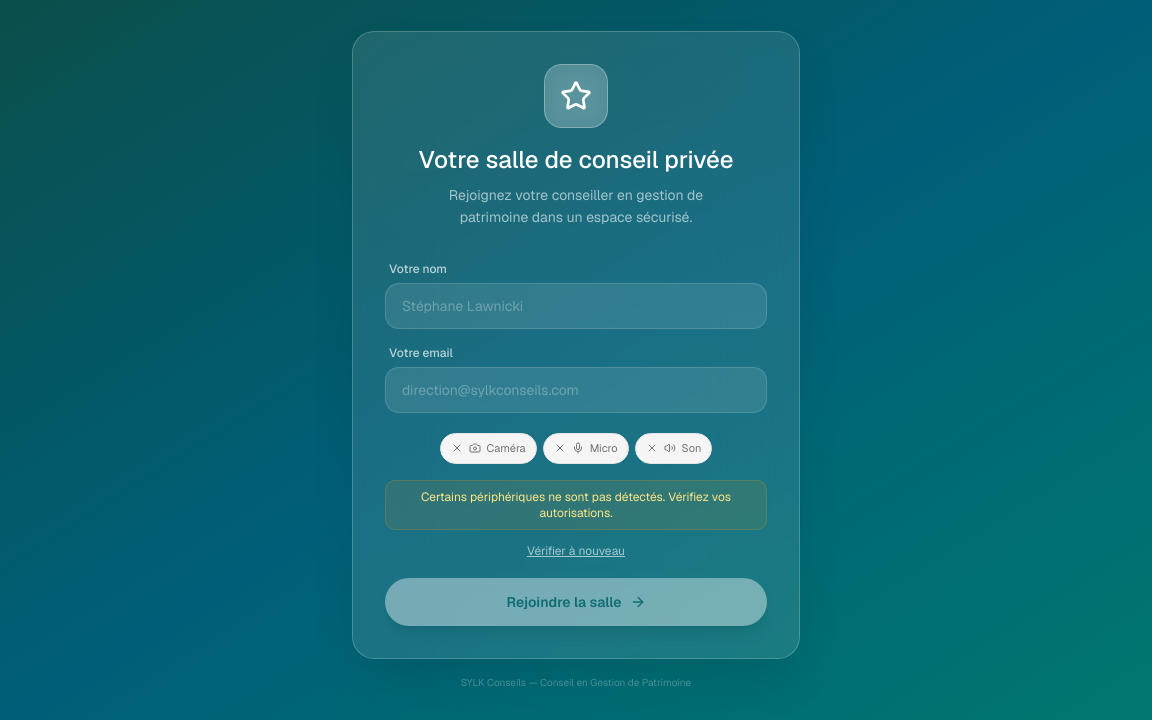
Test case: WelcomeScreen — Safari Media Fix › shows error message when getUserMedia fails with NotAllowedError
Type "Test User" into the field with placeholder "Stéphane Lawnicki" at (576, 306), box 385,283 -> 767,329
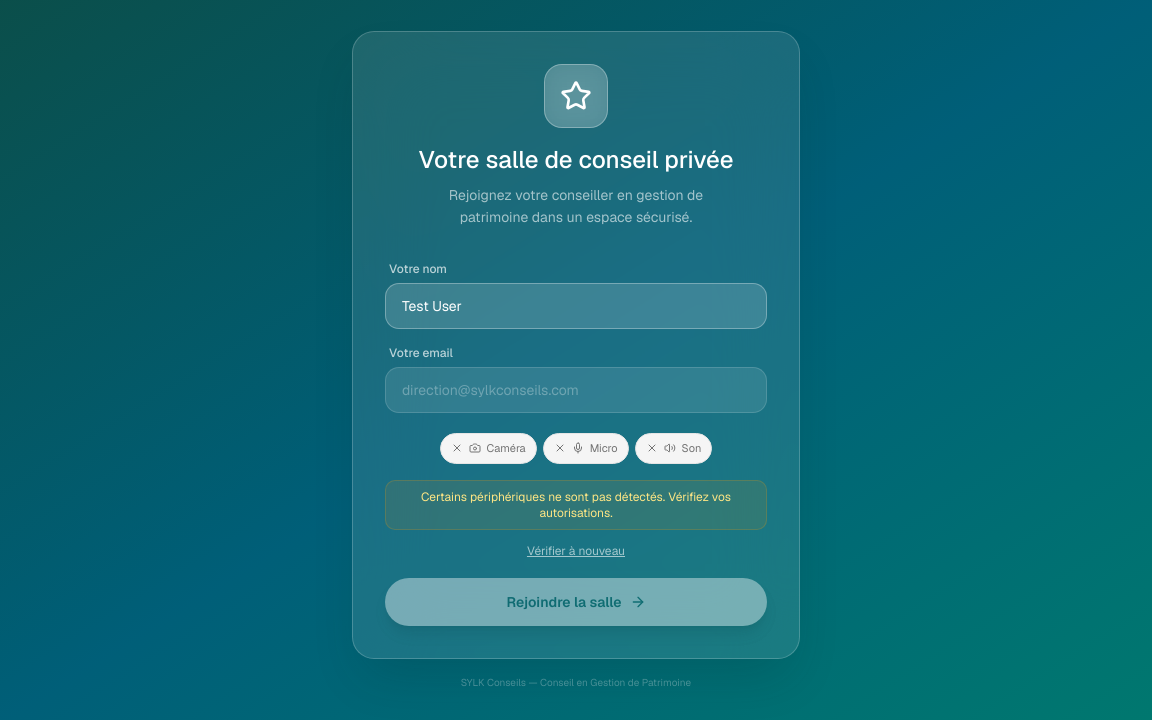
Type "test@test.com" into the field with placeholder "direction@sylkconseils.com" at (576, 390), box 385,367 -> 767,413
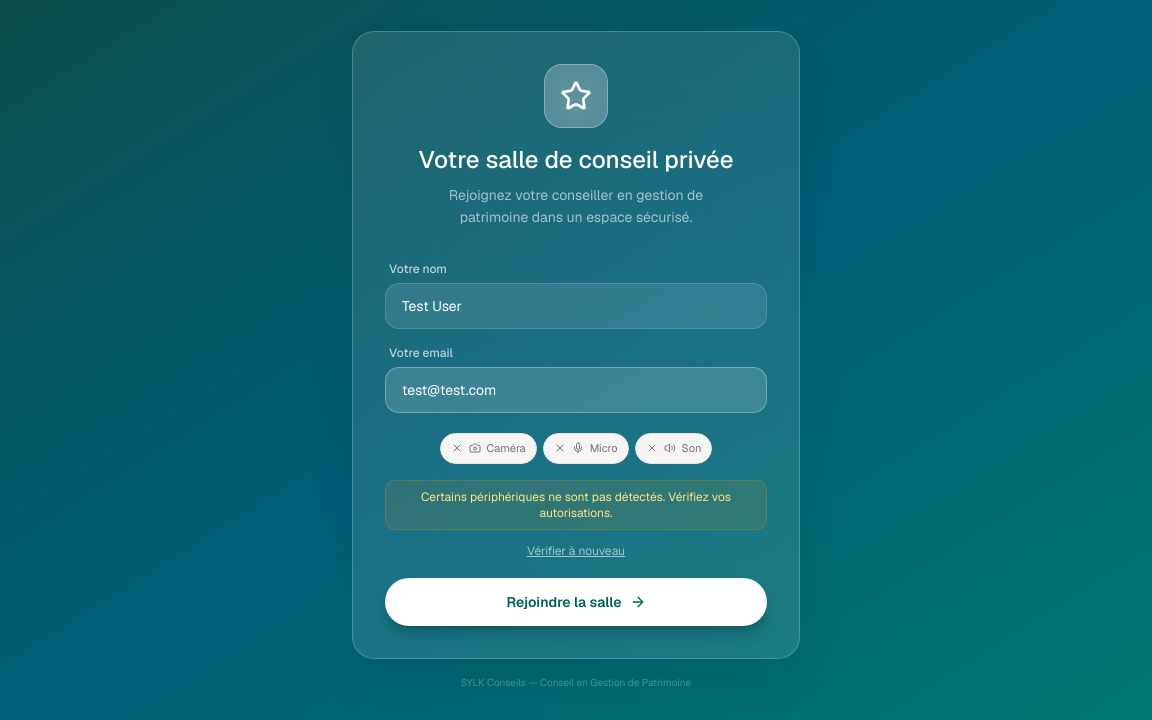
# Click join — triggers checkDevices (async) + advances to code step
Click the button "Rejoindre la salle" at (576, 602), box 385,578 -> 767,626
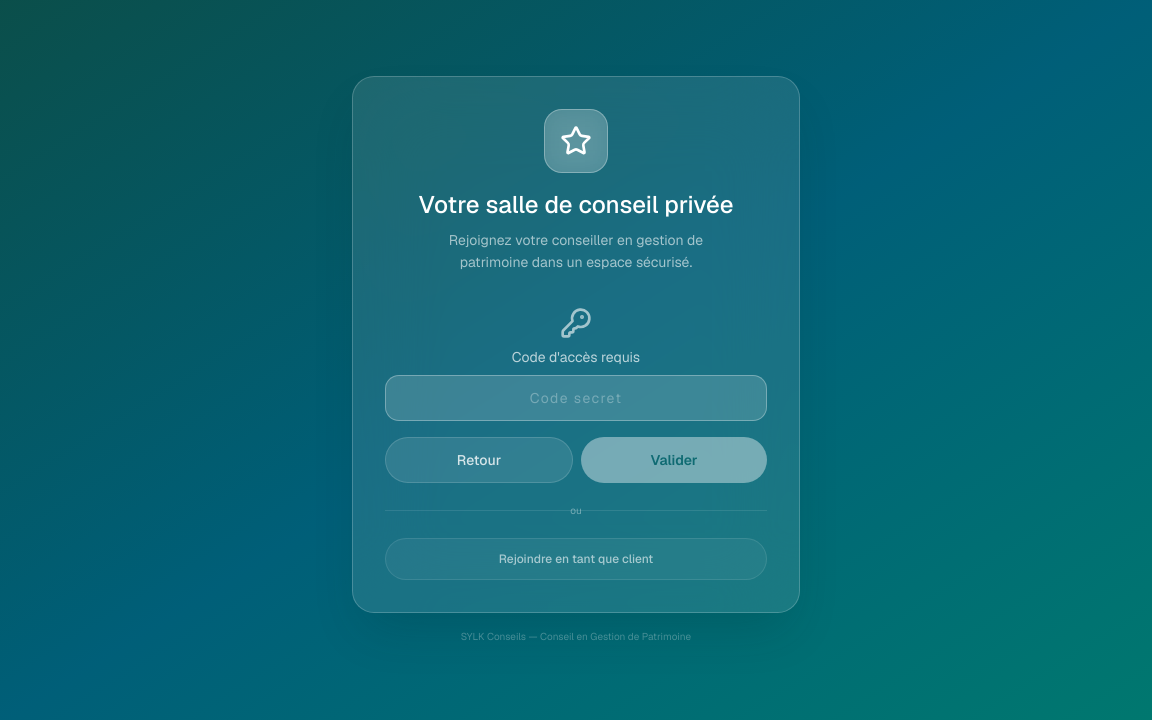
Check: the password field with placeholder "Code secret" is shown, box 385,375 -> 767,421
# Go back to form step
Click the button "Retour" at (479, 460), box 385,437 -> 573,483
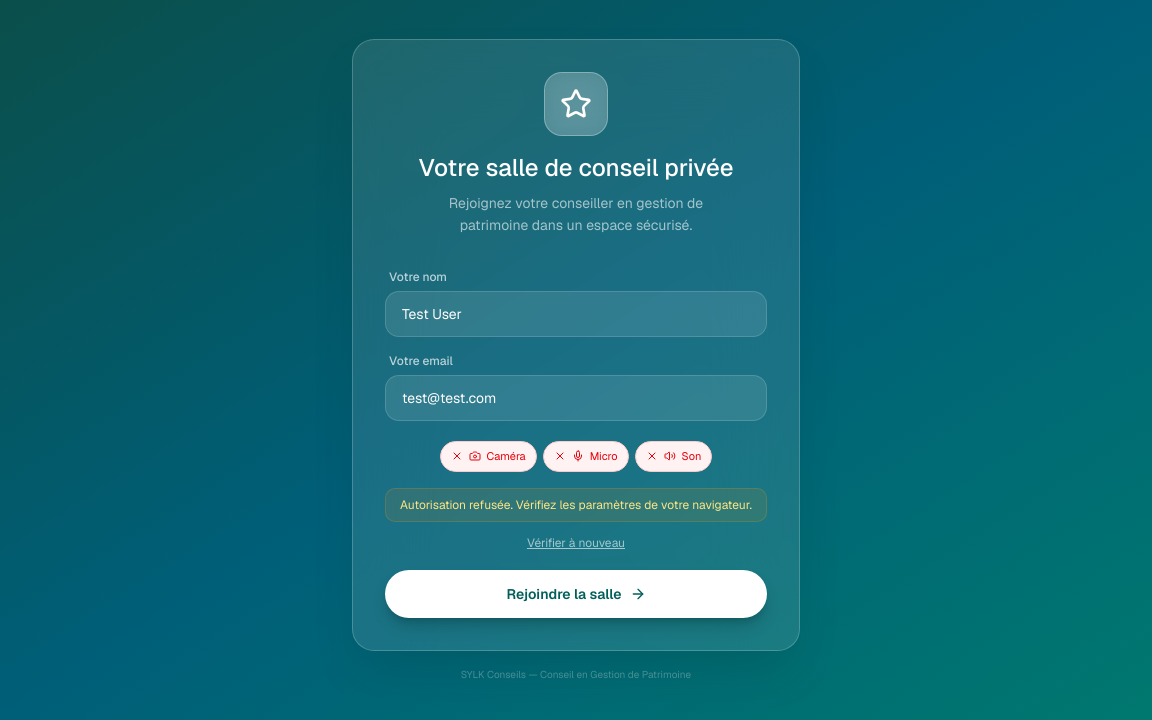
Check: the text "Autorisation refusée. Vérifiez les paramètres de votre navigateur." is shown, box 385,488 -> 767,522
Check: the button "Vérifier à nouveau" is shown, box 385,534 -> 767,550
